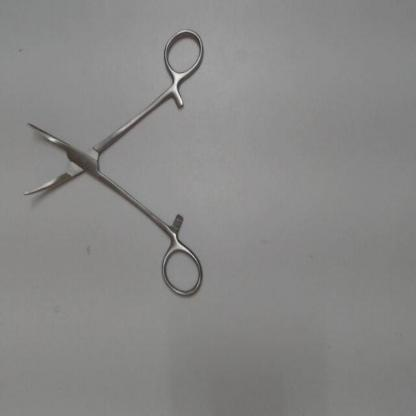Crile Artery Forceps: (17, 23, 207, 305)
